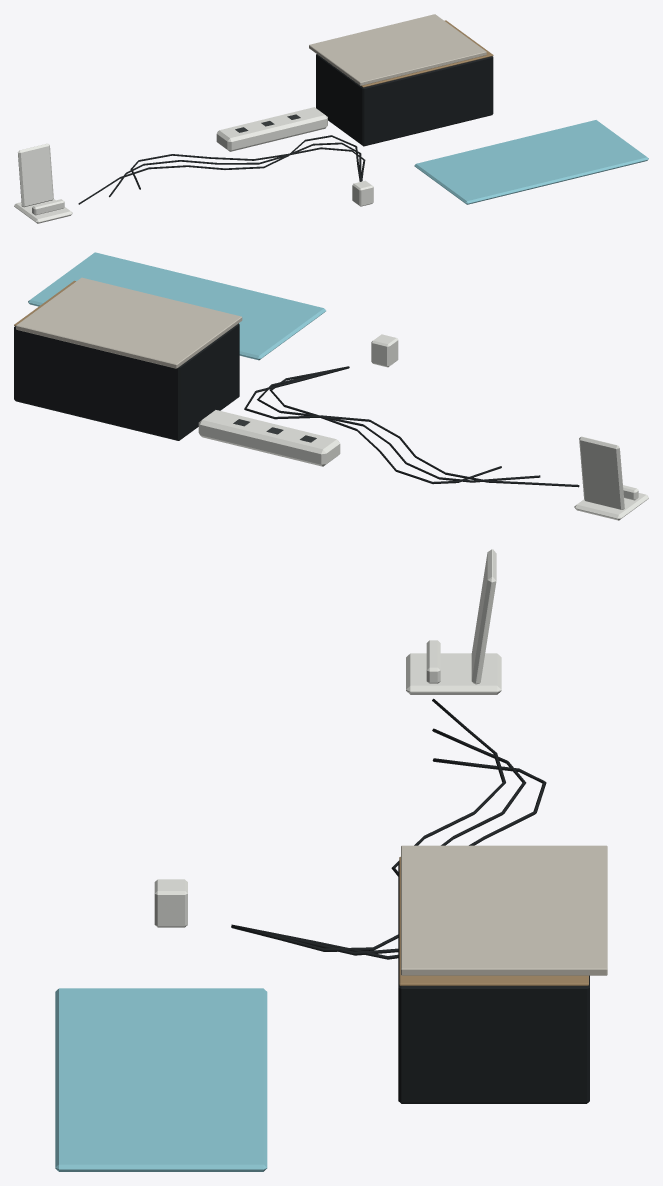
3 renders of one model, top to bottom at view 1: azimuth 30°, elevation 25°; view 2: azimuth 150°, elevation 25°; view 3: azimuth 270°, elevation 25°, orthographic. The views are drawn at different scales.
Parts seen in each view (by area): view 1: Unprinted dark instrument carton, Flat cyan sign substrate, Stacked blank papers, Small white stand base, Cardboard exposed edge; view 2: Unprinted dark instrument carton, Stacked blank papers, Flat cyan sign substrate, Small white stand base; view 3: Flat cyan sign substrate, Stacked blank papers, Unprinted dark instrument carton, Small white stand base, Cardboard exposed edge.
Part boxes in pixels (left/top/right/bottom): Unprinted dark instrument carton: left=78, top=54, right=493, bottom=204; Flat cyan sign substrate: left=414, top=120, right=648, bottom=204; Stacked blank papers: left=309, top=14, right=486, bottom=85; Small white stand base: left=14, top=107, right=373, bottom=223; Cardboard exposed edge: left=361, top=20, right=493, bottom=87; Unprinted dark instrument carton: left=14, top=323, right=579, bottom=487; Stacked blank papers: left=16, top=277, right=242, bottom=368; Flat cyan sign substrate: left=28, top=252, right=325, bottom=360; Small white stand base: left=198, top=334, right=648, bottom=520; Flat cyan sign substrate: left=55, top=988, right=267, bottom=1171; Stacked blank papers: left=401, top=845, right=607, bottom=975; Unprinted dark instrument carton: left=231, top=698, right=589, bottom=1103; Small white stand base: left=154, top=549, right=501, bottom=927; Cardboard exposed edge: left=399, top=856, right=588, bottom=985.
Bounding box in the file's own units: 1.2 × 0.142 × 0.5475.
